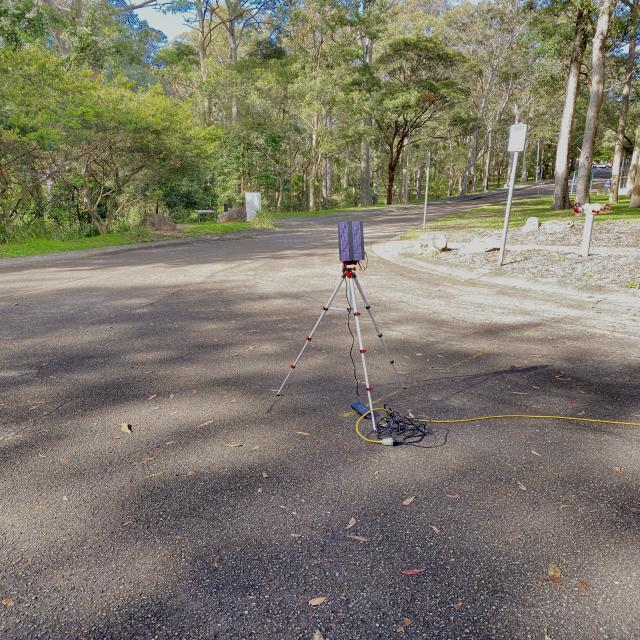matrix: (332, 218, 372, 264)
